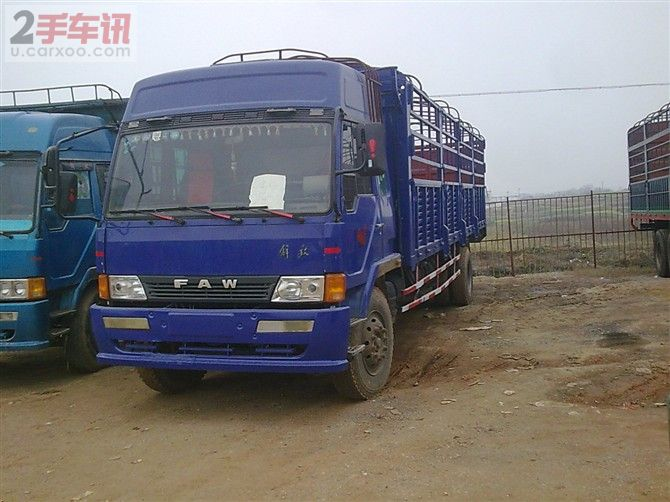truck: (113, 64, 546, 403)
